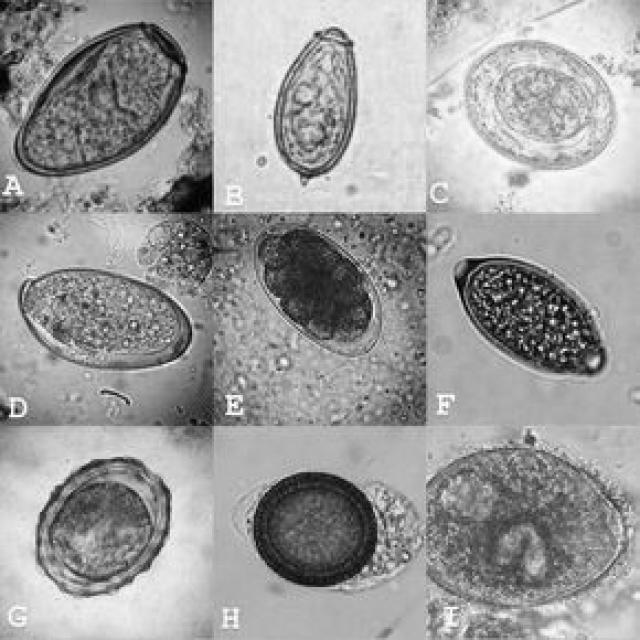Ancylostoma Spp: (251, 218, 385, 358)
Ascaris Lumbricoides: (29, 454, 178, 599)
Fasciola Hepatica: (8, 14, 198, 180), (16, 262, 202, 370)
Hymenolepis: (460, 34, 615, 176)
Schistosoma: (273, 19, 363, 186)
Taenia Sp: (252, 468, 380, 587)
Trichuris Trichiura: (446, 250, 611, 390)
